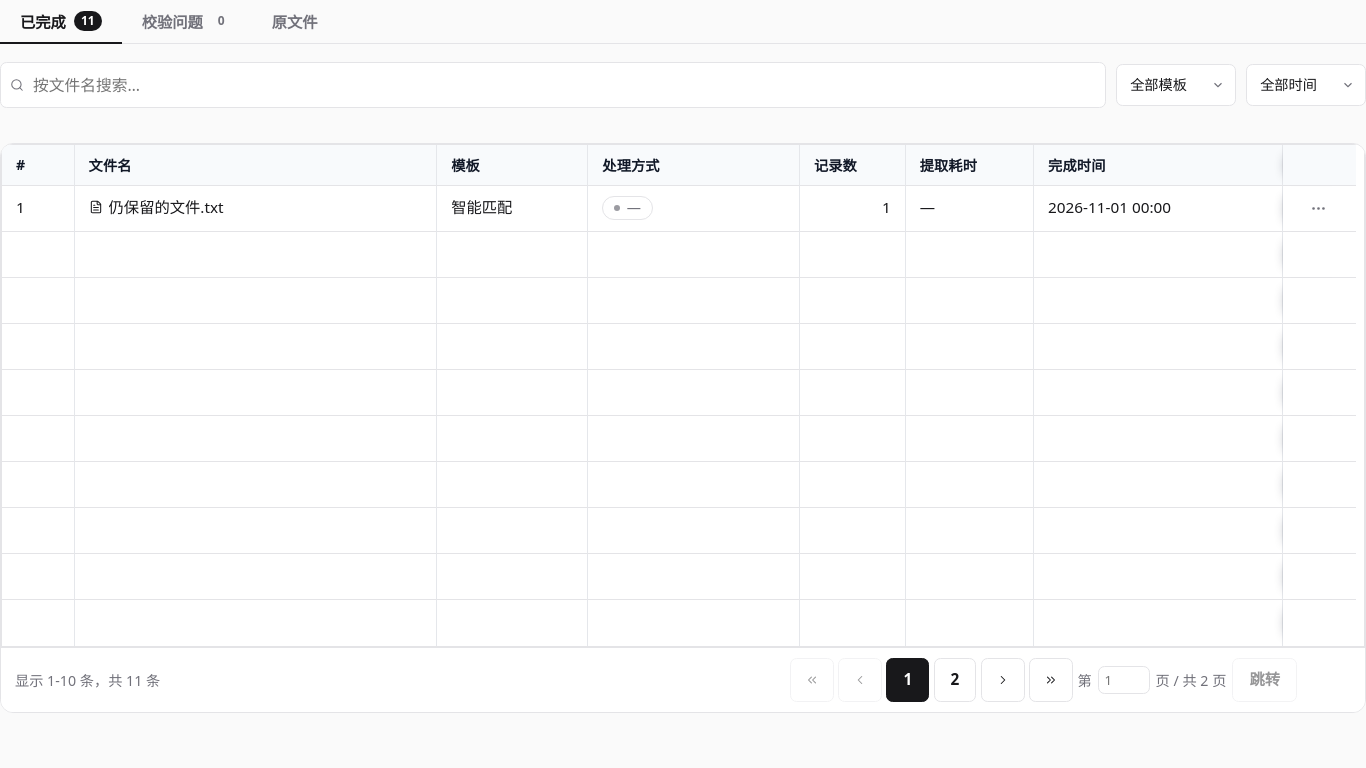
Test: rereads the clamped page after deleting the last file on the last page
The width and height of the screenshot is (1366, 768).
Expected: the text "仍保留的文件.txt" is shown, [108,198,224,217]
Click the button titled "下一页": (1003, 680) [981,658,1025,702]
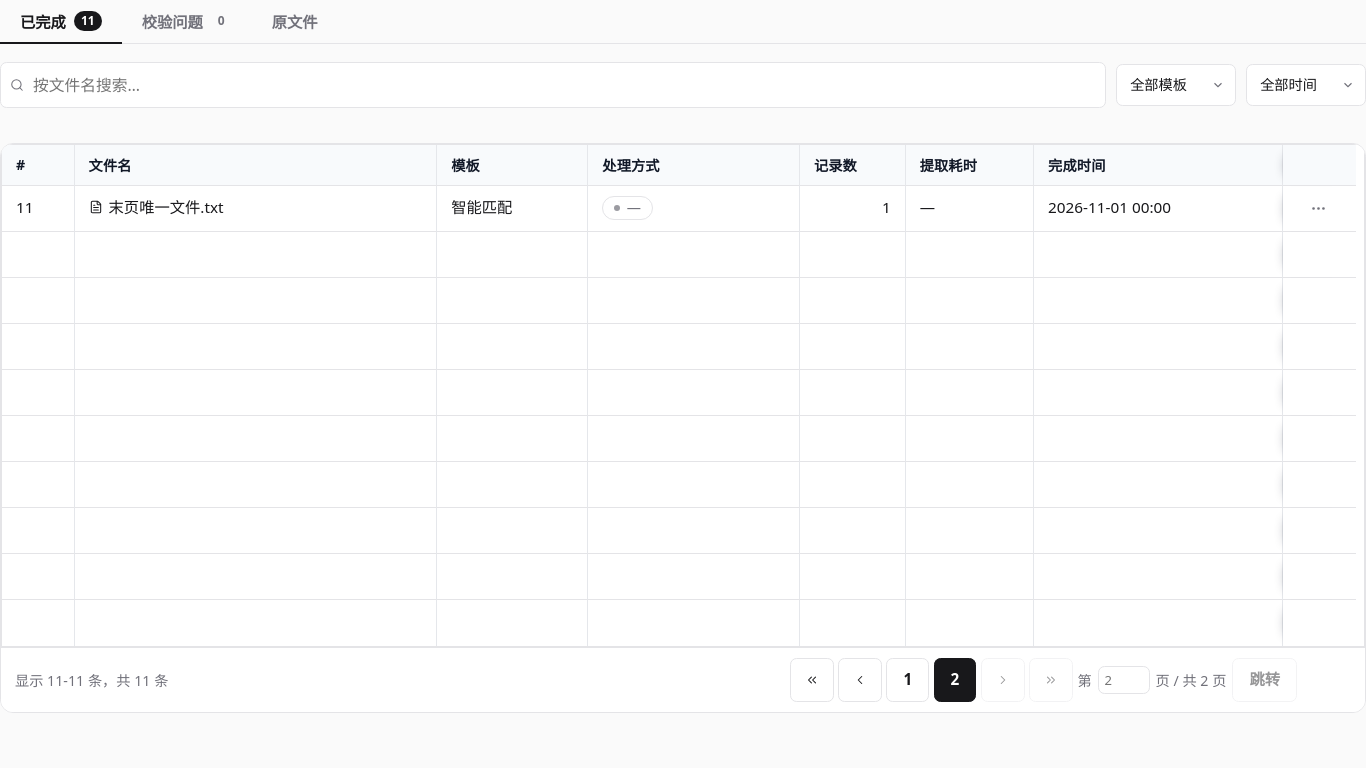
Now the text "末页唯一文件.txt" is shown, box [108,198,224,217]
Press ArrowDown in the button named "文件操作：末页唯一文件.txt", box [1303,192,1335,224]
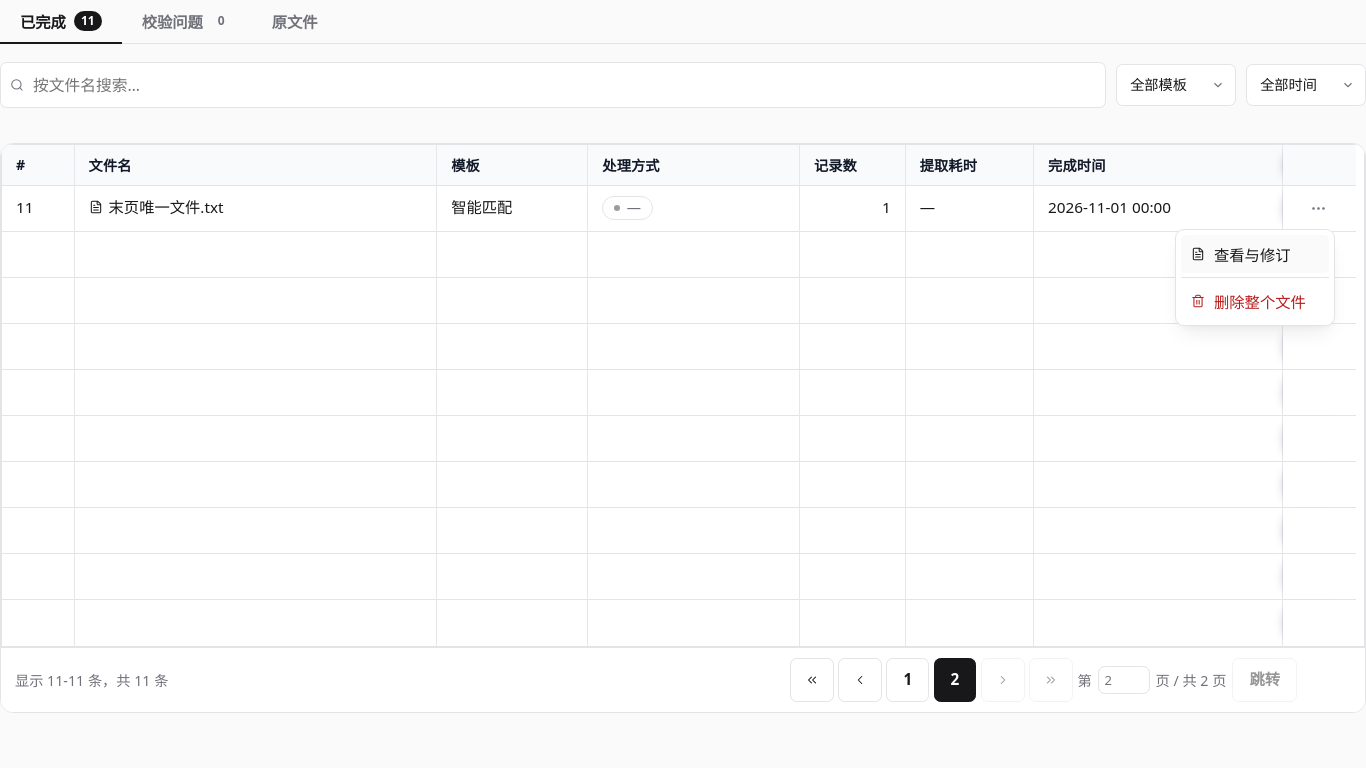
Click the menu item "删除整个文件": (1248, 302) [1191,292,1306,312]
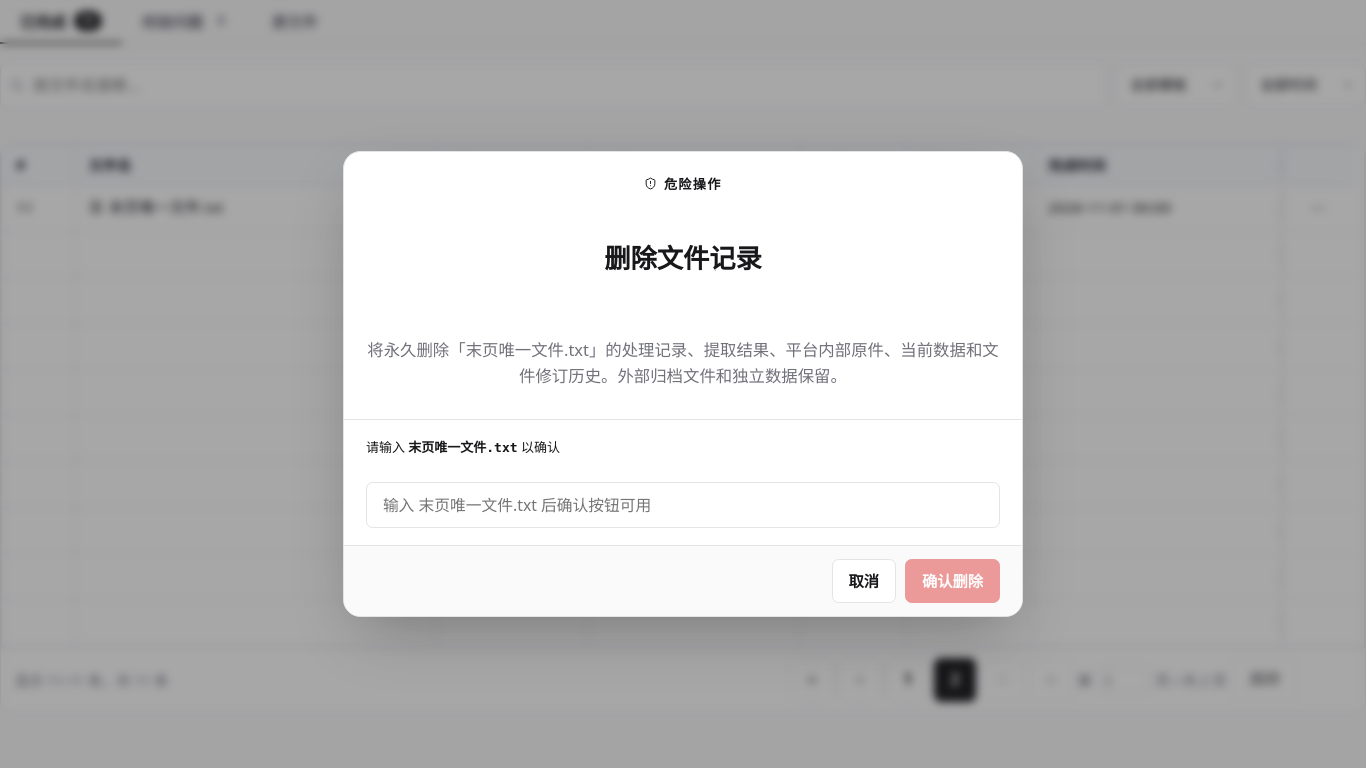
In the field named "输入 末页唯一文件.txt 确认删除": (683, 505) [366,482,1000,528], type "末页唯一文件.txt"
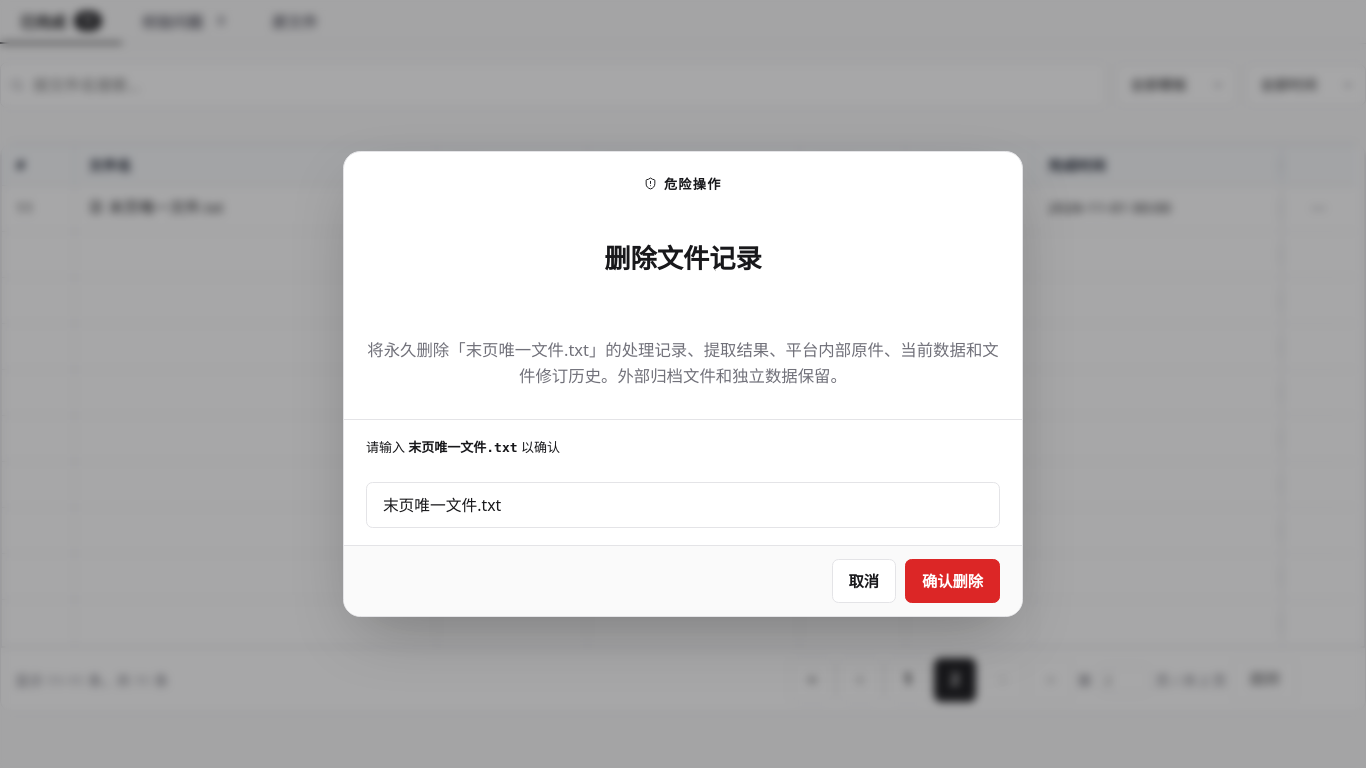
Click the button "确认删除": (952, 581) [905,559,1000,603]
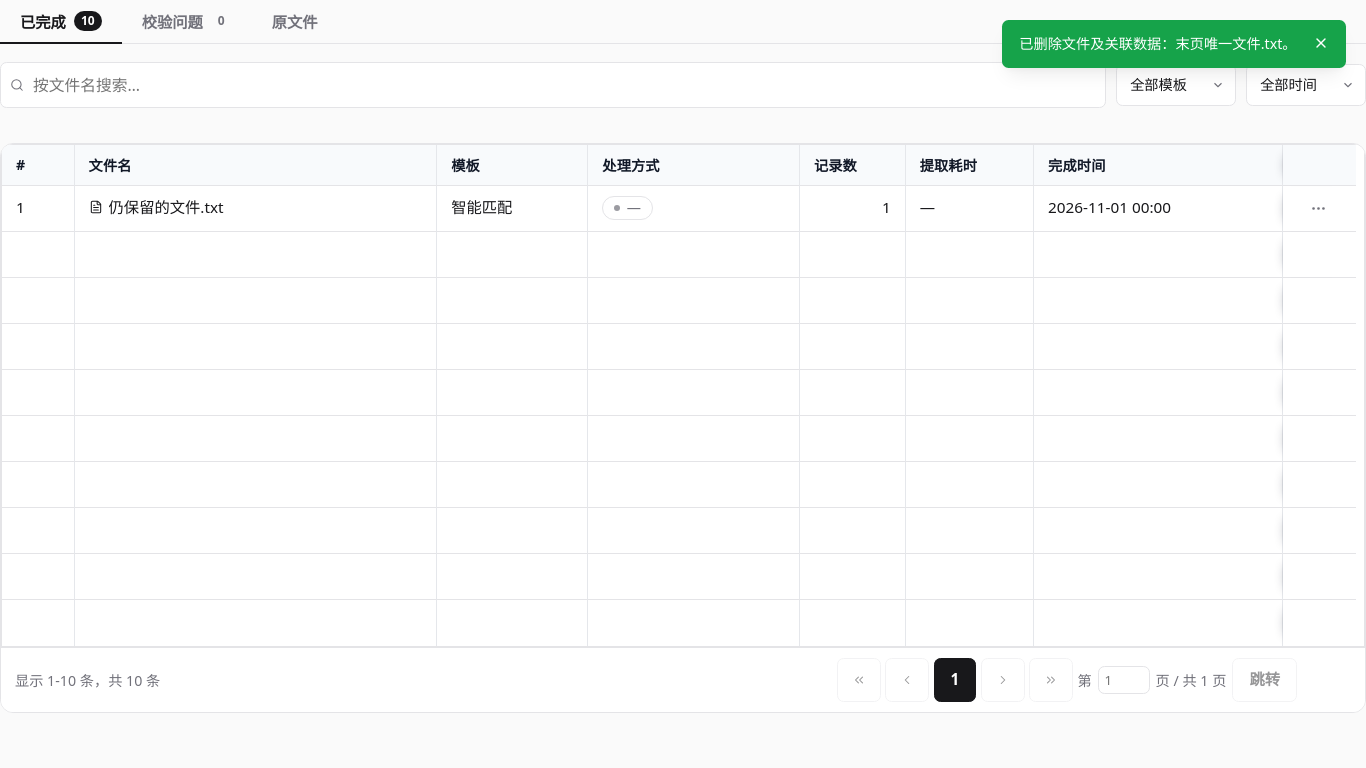
Now the text "仍保留的文件.txt" is shown, box [108,198,224,217]
